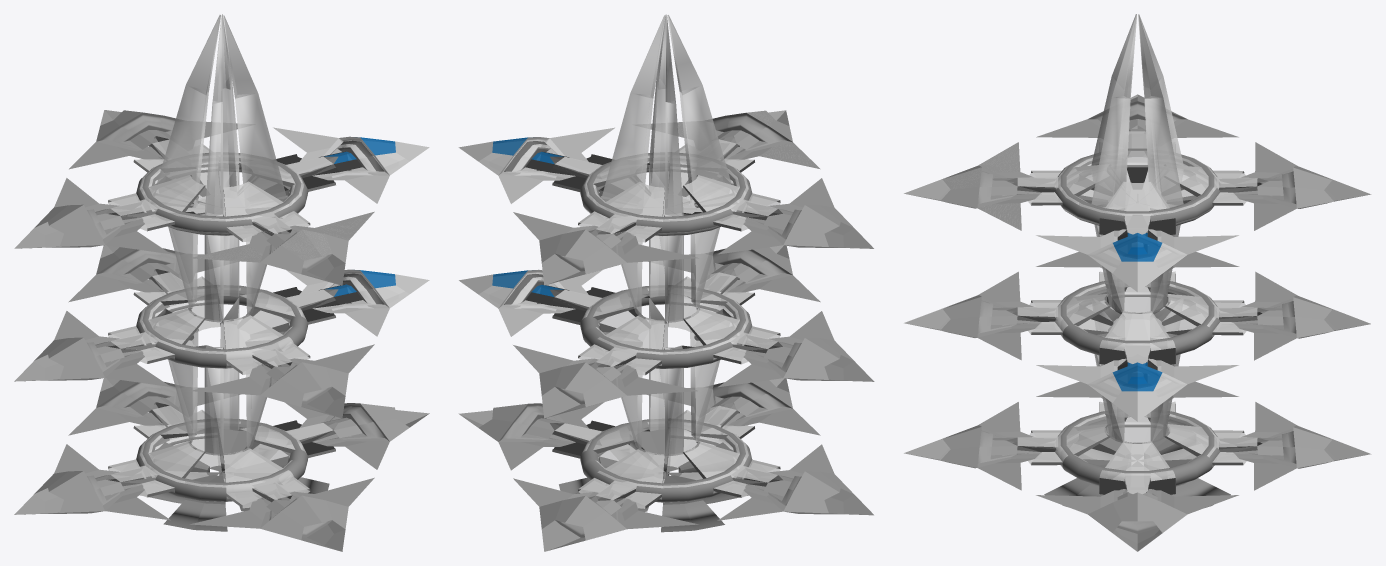
File: vrSpaceHub_v6.fbx
The picture shows the model from 3 angles, left to right: view 1: azimuth 30°, elevation 25°; view 2: azimuth 150°, elevation 25°; view 3: azimuth 270°, elevation 25°; orthographic projection. The views are drawn at different scales.
Visible parts, largest first — view 1: polySurface89, polySurface48, polySurface53, polySurface43, polySurface45, polySurface42, polySurface50, polySurface52, polySurface51, polySurface41, polySurface90, polySurface46 (+1 smaller); view 2: polySurface89, polySurface51, polySurface46, polySurface41, polySurface45, polySurface42, polySurface50, polySurface52, polySurface53, polySurface43, polySurface48, polySurface90 (+1 smaller); view 3: polySurface89, polySurface52, polySurface20, polySurface90, polySurface43, polySurface41, polySurface46, polySurface53, polySurface48, polySurface51, polySurface50, polySurface42 (+1 smaller).
Part boxes in pixels (x1,y1,x2,y2): polySurface89: (108,14,335,531); polySurface48: (190,344,374,418); polySurface53: (190,211,374,285); polySurface43: (190,477,374,551); polySurface45: (14,311,170,386); polySurface42: (14,444,170,520); polySurface50: (14,178,170,254); polySurface52: (273,127,429,203); polySurface51: (69,110,251,169); polySurface41: (68,378,240,435); polySurface90: (286,269,429,336); polySurface46: (68,245,239,302); polySurface89: (552,14,780,532); polySurface51: (513,212,698,285); polySurface46: (513,345,697,418); polySurface41: (513,478,698,551); polySurface45: (718,311,874,387); polySurface42: (717,444,873,520); polySurface50: (717,178,873,254); polySurface52: (458,127,614,203); polySurface53: (637,110,820,169); polySurface43: (646,378,820,435); polySurface48: (648,245,820,302); polySurface90: (459,269,603,336); polySurface89: (1012,14,1262,507); polySurface52: (1036,229,1238,291); polySurface20: (1036,489,1238,551); polySurface90: (1036,358,1238,421); polySurface43: (904,402,1041,490); polySurface41: (1233,402,1371,490); polySurface46: (1233,271,1370,360); polySurface53: (904,142,1041,230); polySurface48: (904,271,1041,360); polySurface51: (1233,142,1371,230); polySurface50: (1036,94,1238,138); polySurface42: (1036,381,1238,399).
Size of the model in its own units: 399 by 450 by 398.
